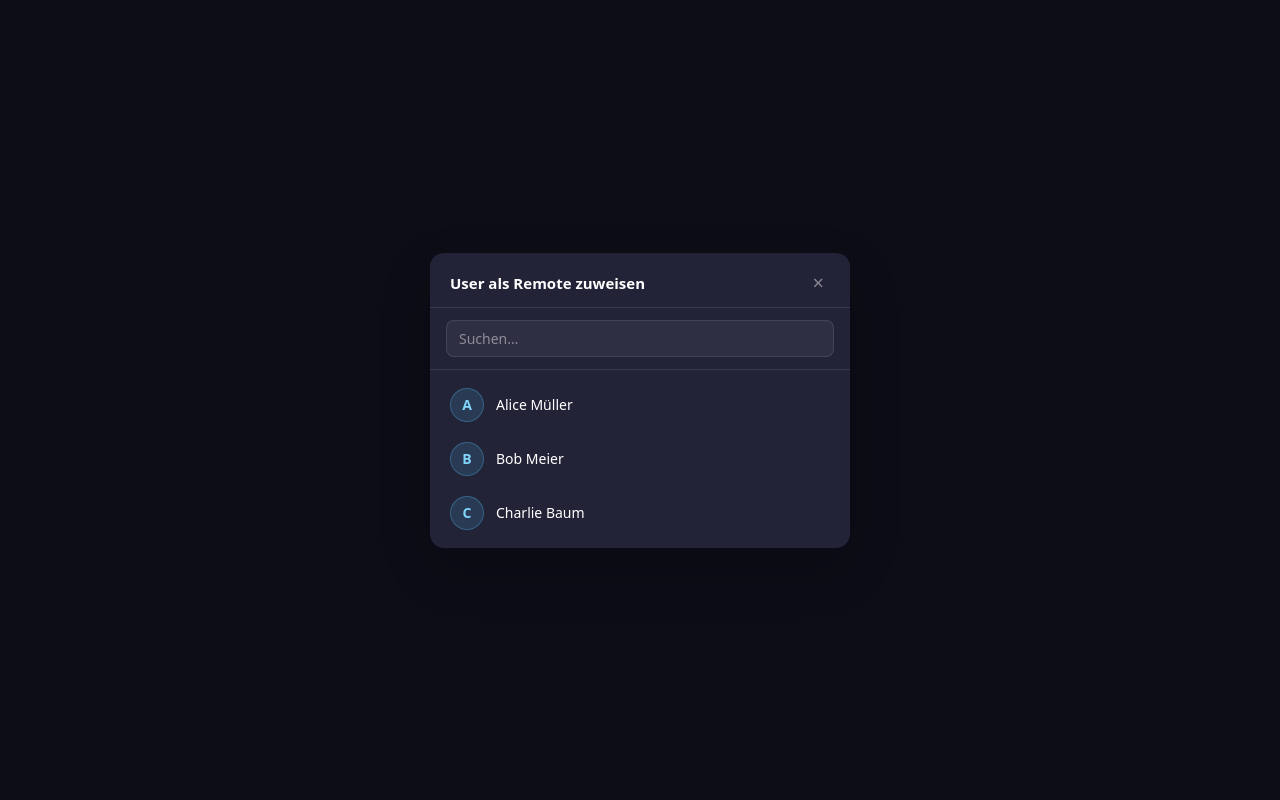
Test case: UserSearchModal › filters users by fullName (case-insensitive)
In the field with placeholder "Suchen…": (640, 338) [446,320,834,356], type "alice"
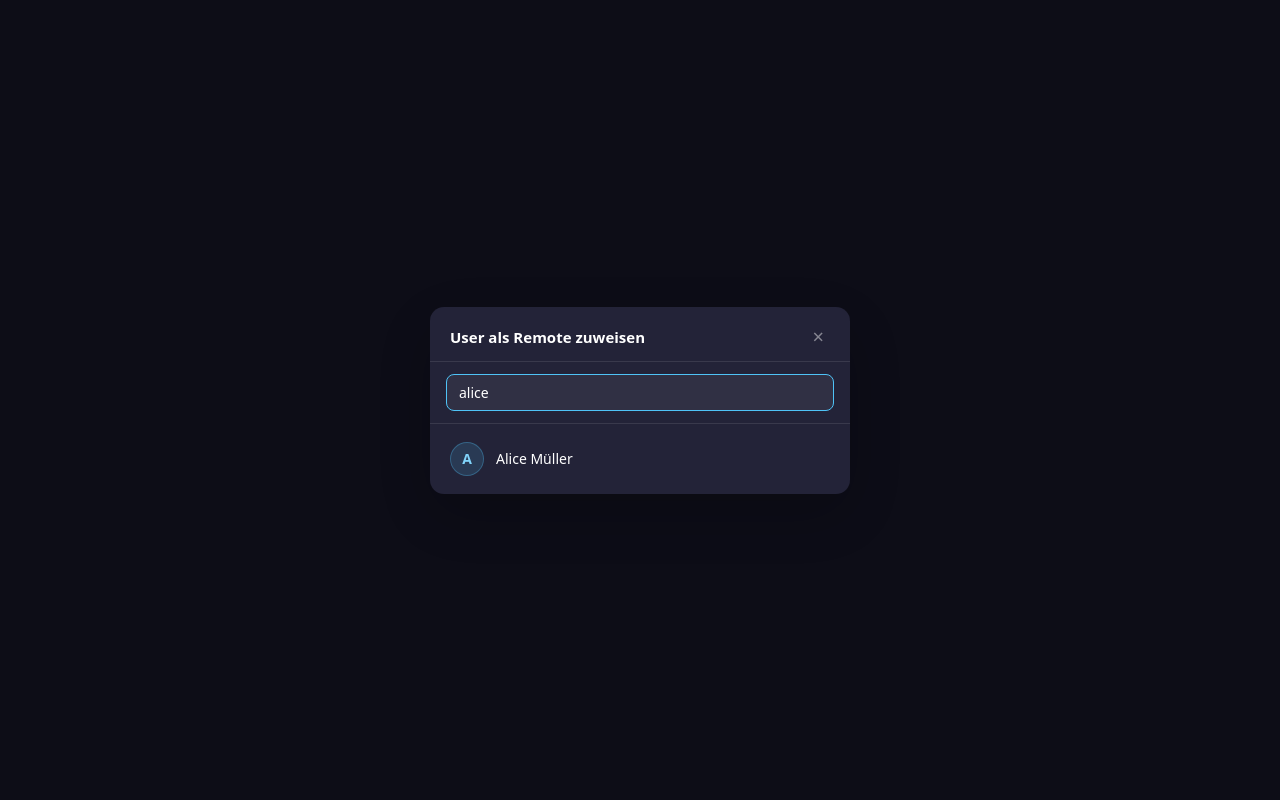
expect the button with class "user-row" shows "Alice Müller": met, box [430,432,850,486]
expect the number of buttons with class "user-row" is 1: met, box [430,432,850,486]
